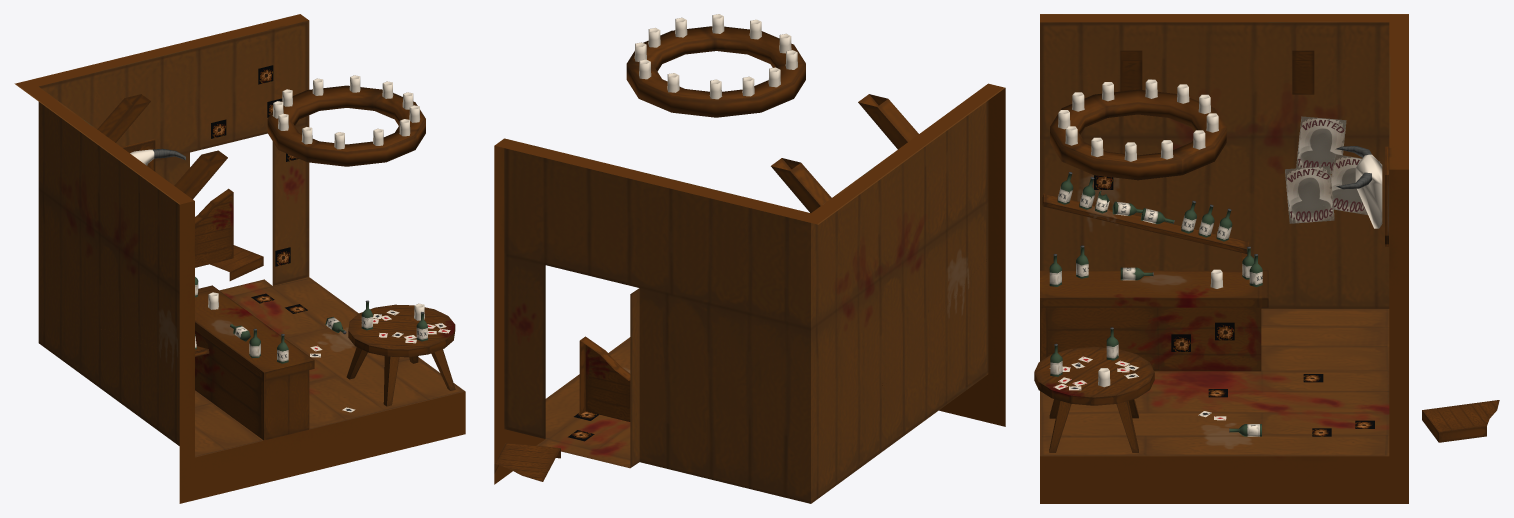
File: wester_saloon_cubicle.glb
The picture shows the model from 3 angles, left to right: view 1: azimuth 30°, elevation 25°; view 2: azimuth 150°, elevation 25°; view 3: azimuth 270°, elevation 25°; orthographic projection. The views are drawn at different scales.
Parts seen in each view (by area): view 1: Scene_Material_0, Scene_seethrough_0; view 2: Scene_Material_0; view 3: Scene_Material_0, Scene_seethrough_0.
Boxes of the visible parts, bbox=[...] form: Scene_Material_0: bbox=[14, 14, 465, 503]; Scene_seethrough_0: bbox=[211, 65, 307, 313]; Scene_Material_0: bbox=[494, 14, 1005, 503]; Scene_Material_0: bbox=[1034, 14, 1499, 503]; Scene_seethrough_0: bbox=[1094, 175, 1374, 436].
Bounding box in the file's own units: 782 × 801 × 964.
2 materials, 2 textured.
